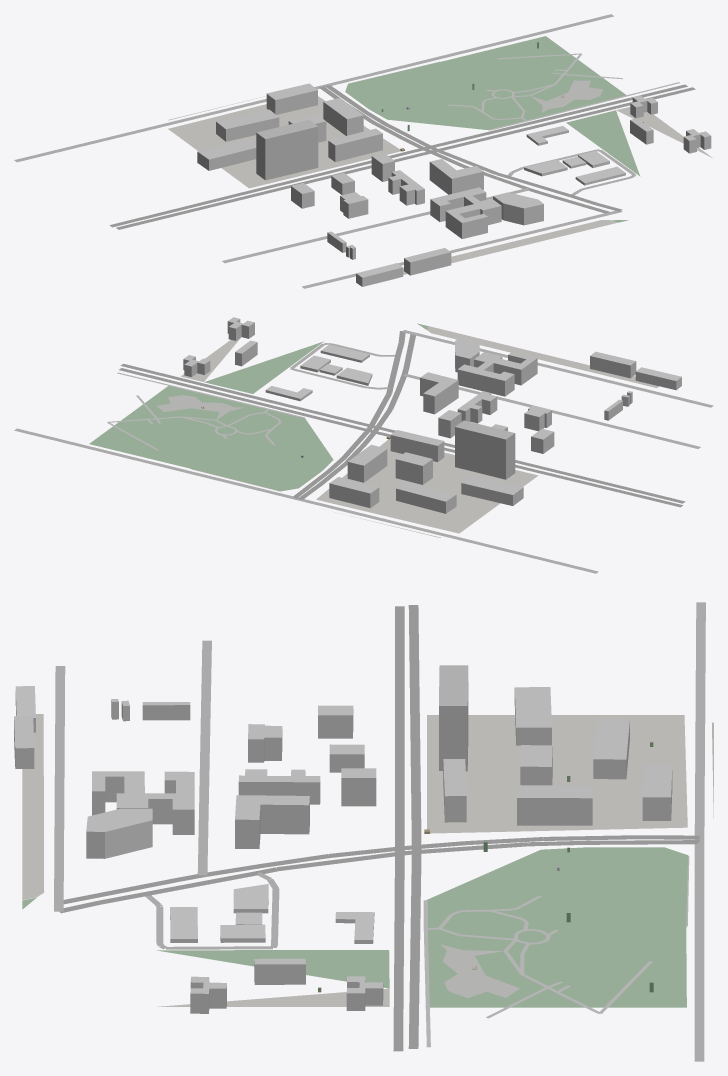
3 renders of one model, top to bottom at view 1: azimuth 30°, elevation 25°; view 2: azimuth 150°, elevation 25°; view 3: azimuth 270°, elevation 25°, orthographic. The views are drawn at different scales.
Size of the model in its own units: 788 by 52.69 by 506.
